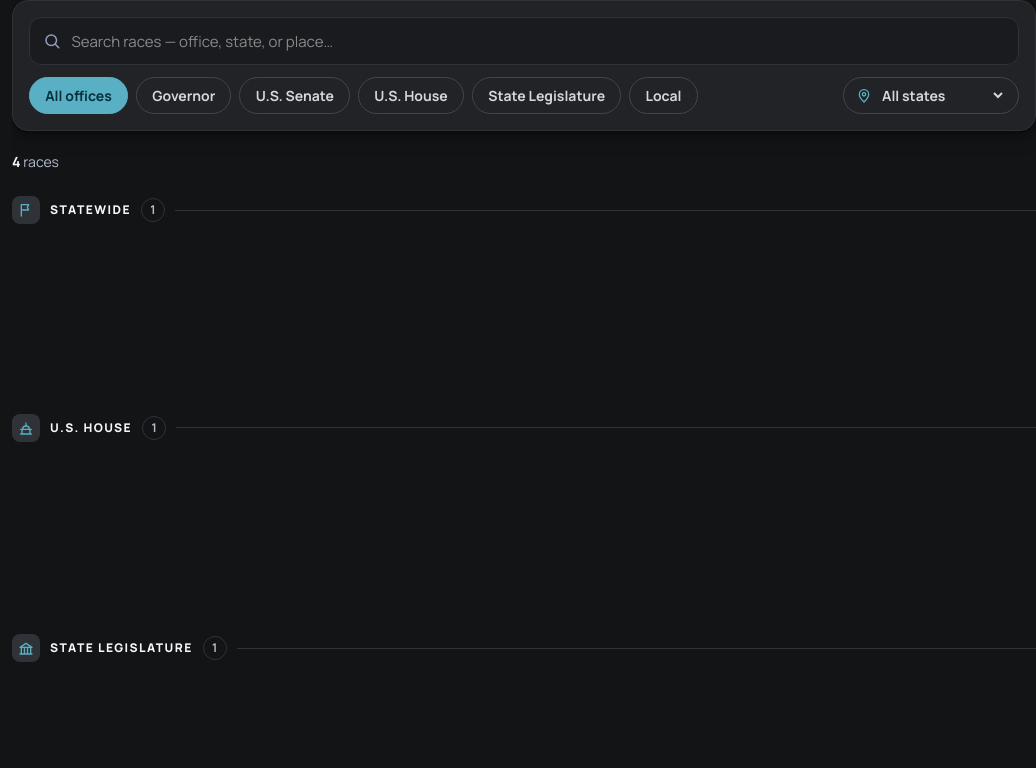
Scenario: RaceBrowse — search-first › filters by an office-type pill
Click the button "Governor".
click(184, 96)  # box [136, 77, 232, 114]
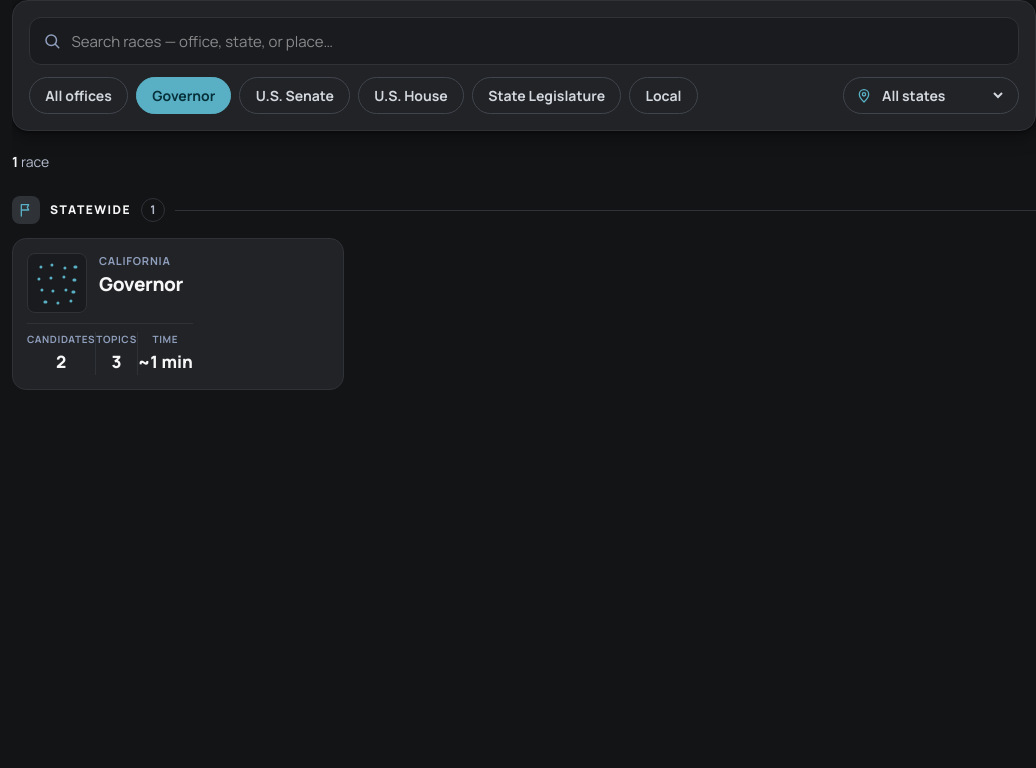
Expected: the button with aria-label "open governor race" is shown, [12, 238, 344, 390]
